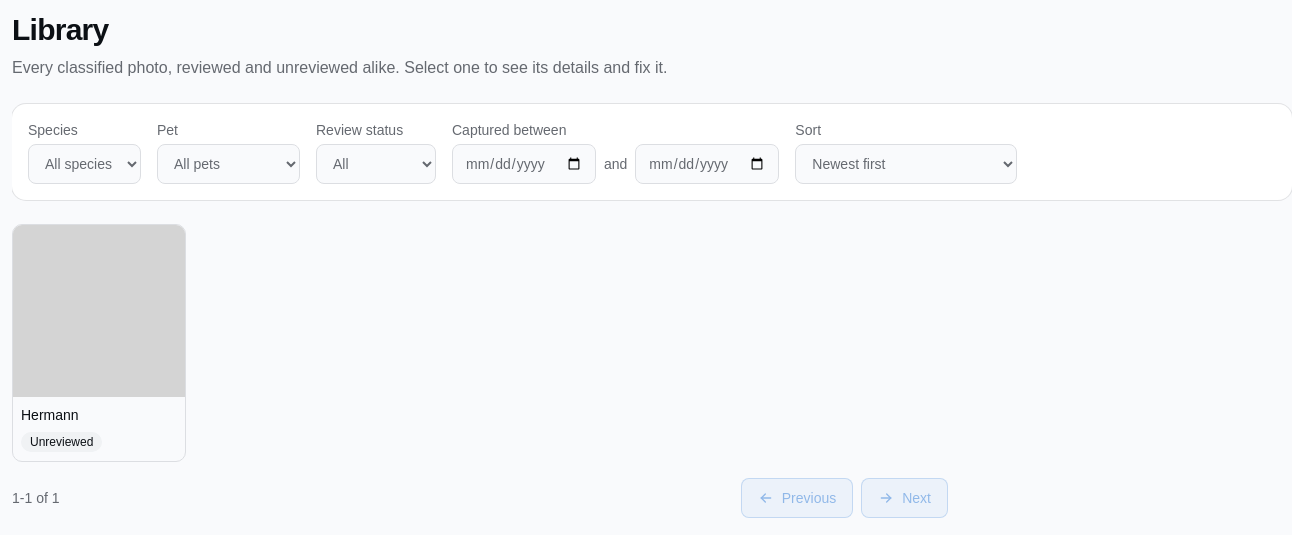
Test: LibraryPage › shows a details panel when a thumbnail is selected
This screenshot has width=1292, height=535.
Step 1. Click the button with aria-label "View details for Hermann" → (99,343), box [12,224,186,462]
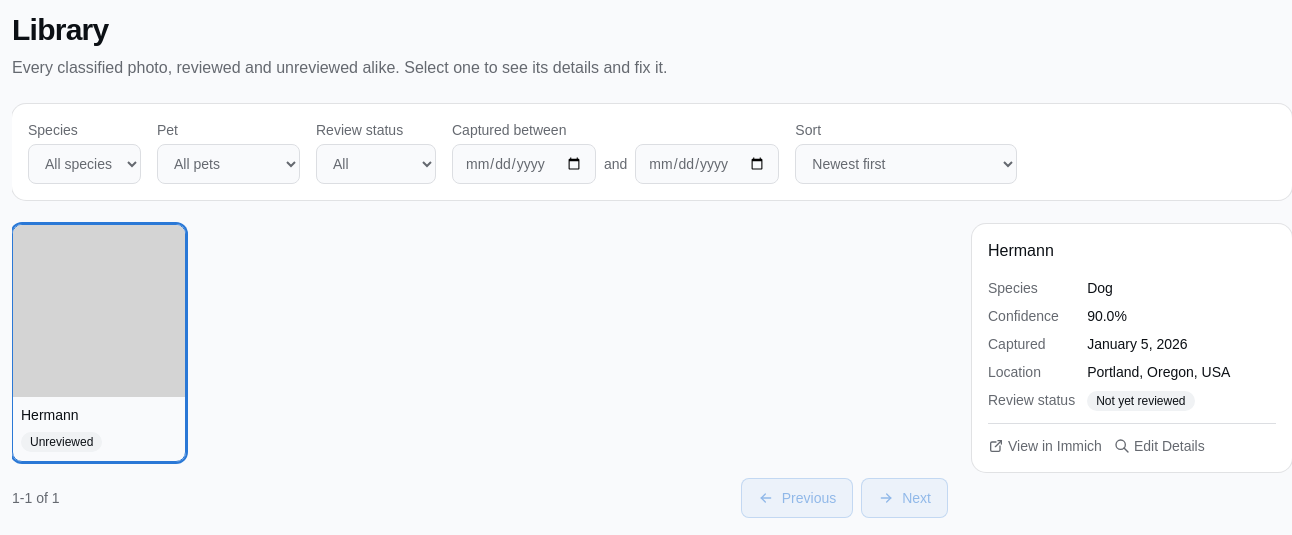
Expected: the text "Portland, Oregon, USA" is shown, [1087,364,1230,380]
Expected: the text "90.0%" is shown, [1087,308,1127,324]
